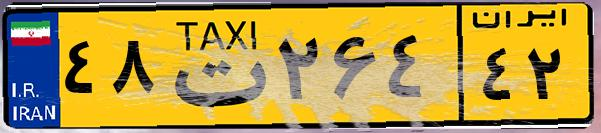2: (270, 28, 330, 110), (525, 38, 570, 115)
4: (385, 28, 445, 110), (57, 26, 110, 100), (475, 38, 525, 113)
6: (330, 28, 385, 110)
8: (110, 28, 158, 98)
ت: (158, 12, 270, 120)
